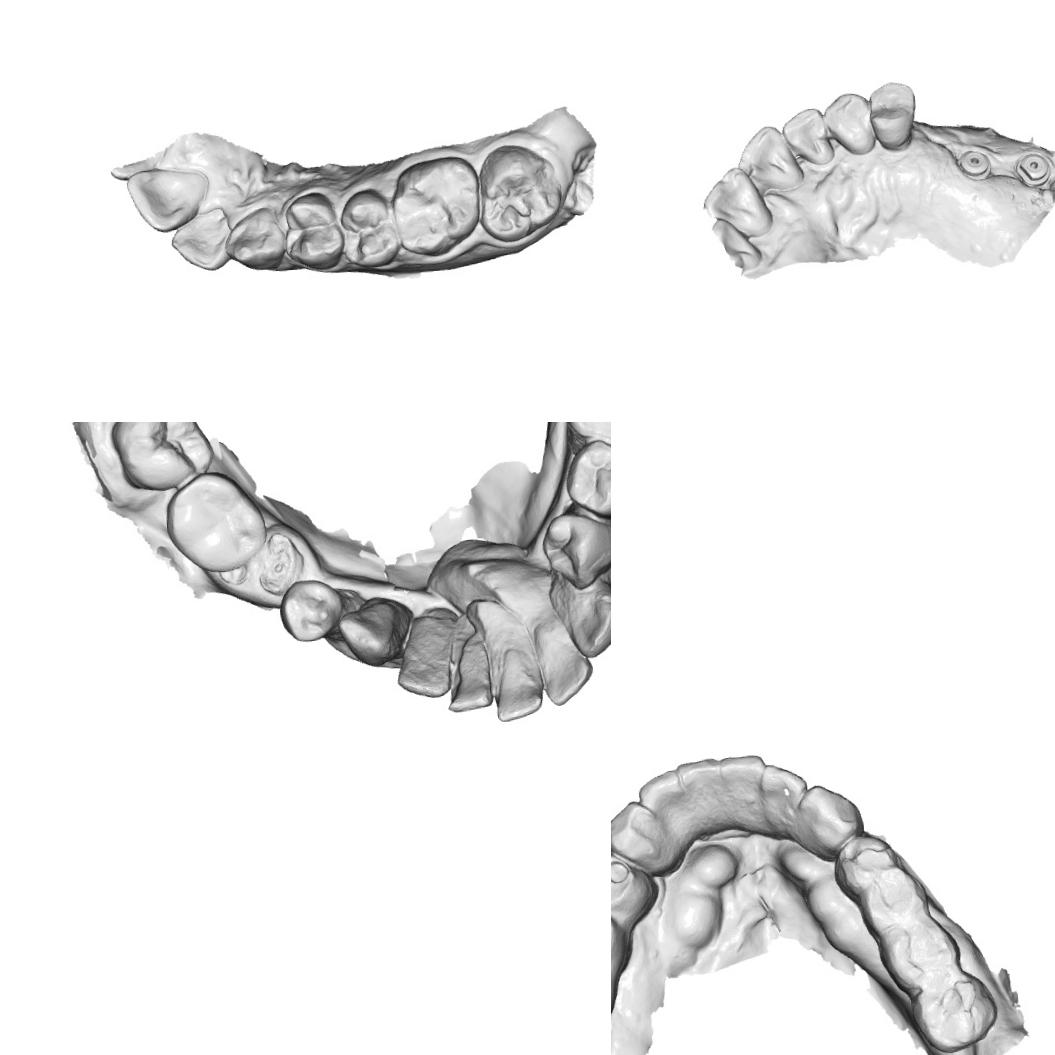canine: (791, 780, 866, 865), (546, 569, 611, 661), (218, 203, 294, 275), (611, 798, 677, 879), (336, 595, 406, 669), (821, 90, 877, 158)
implant: (1012, 149, 1052, 189), (954, 147, 992, 182)
incisor: (390, 605, 462, 702), (124, 162, 211, 236), (698, 164, 774, 241), (534, 616, 596, 710), (733, 122, 805, 194), (712, 752, 770, 831), (167, 211, 234, 274), (490, 650, 547, 723), (634, 763, 687, 837), (674, 756, 724, 832), (779, 104, 835, 168), (758, 758, 808, 827), (442, 650, 494, 714)
molar: (160, 466, 270, 576), (385, 152, 482, 258), (471, 139, 565, 245), (905, 972, 999, 1055), (104, 422, 212, 493), (875, 914, 964, 990)
premolar: (537, 507, 611, 591), (338, 184, 400, 270), (280, 190, 345, 272), (856, 862, 930, 931), (275, 575, 341, 644), (559, 436, 611, 521), (830, 830, 894, 896), (866, 78, 920, 154), (611, 848, 653, 922), (611, 901, 627, 967)
